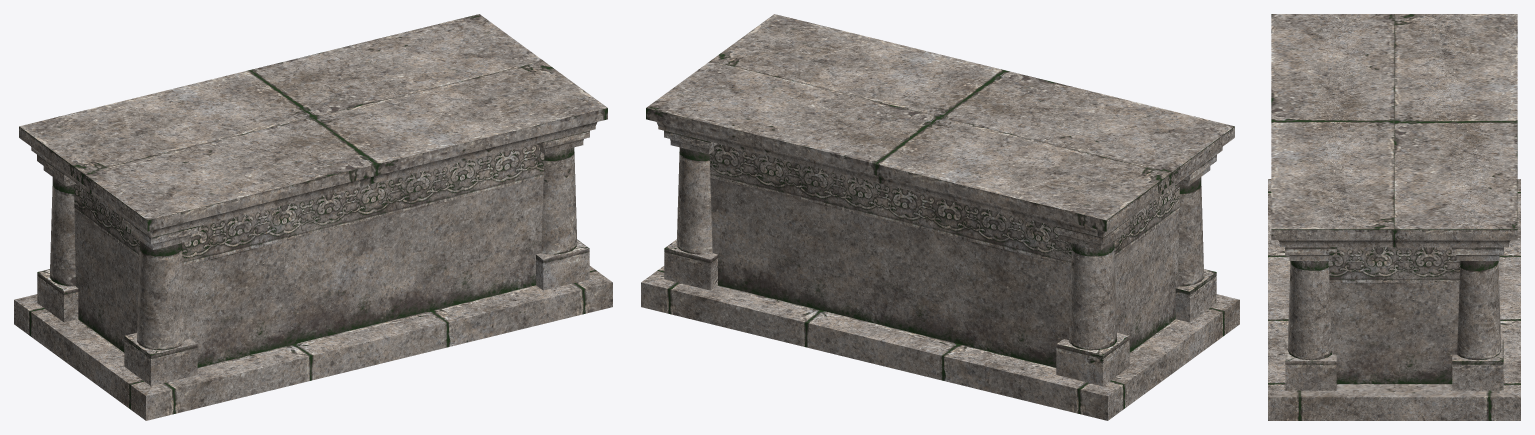
The model's file is Altar.fbx.
3 views of the same model, side by side, from view 1: azimuth 30°, elevation 25°; view 2: azimuth 150°, elevation 25°; view 3: azimuth 270°, elevation 25° (orthographic). The views are drawn at different scales.
Visible parts, largest first — view 1: Main, Corners, CornersTops; view 2: Main, Corners, CornersTops; view 3: Main, Corners, CornersTops.
Boxes of the visible parts, bbox=[...] form: Main: bbox=[14, 14, 612, 420]; Corners: bbox=[49, 147, 577, 350]; CornersTops: bbox=[37, 130, 589, 386]; Main: bbox=[641, 14, 1239, 420]; Corners: bbox=[676, 147, 1204, 350]; CornersTops: bbox=[664, 130, 1216, 386]; Main: bbox=[1268, 14, 1520, 420]; Corners: bbox=[1287, 261, 1501, 360]; CornersTops: bbox=[1285, 247, 1503, 390].
Bounding box in the file's own units: 228 × 92.55 × 111.
